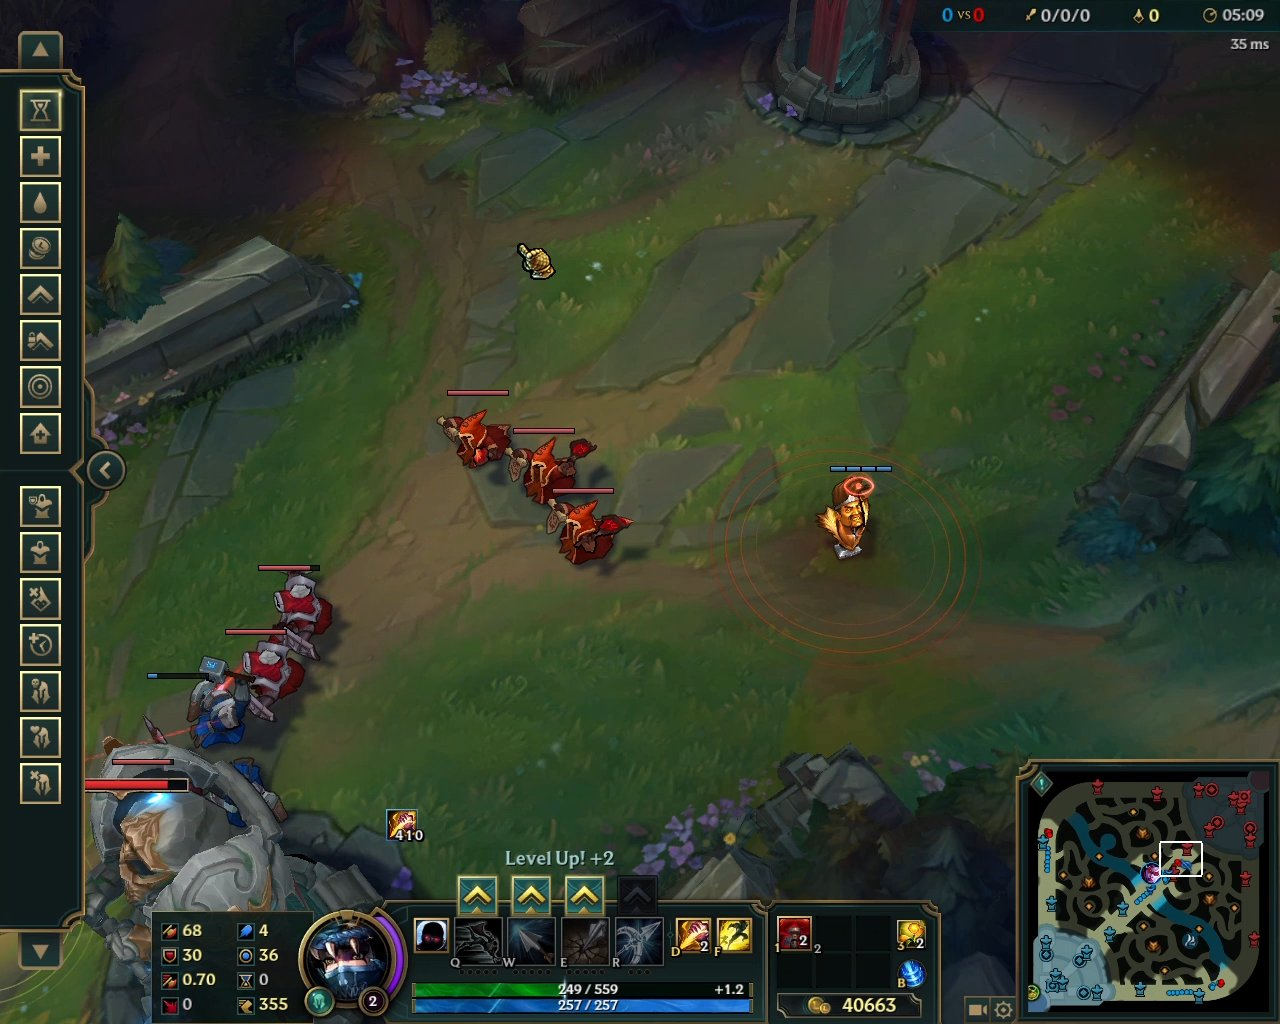EnemyMinion: (222, 627, 310, 726), (534, 488, 635, 569), (255, 563, 336, 659), (502, 427, 599, 505), (436, 390, 508, 476)
